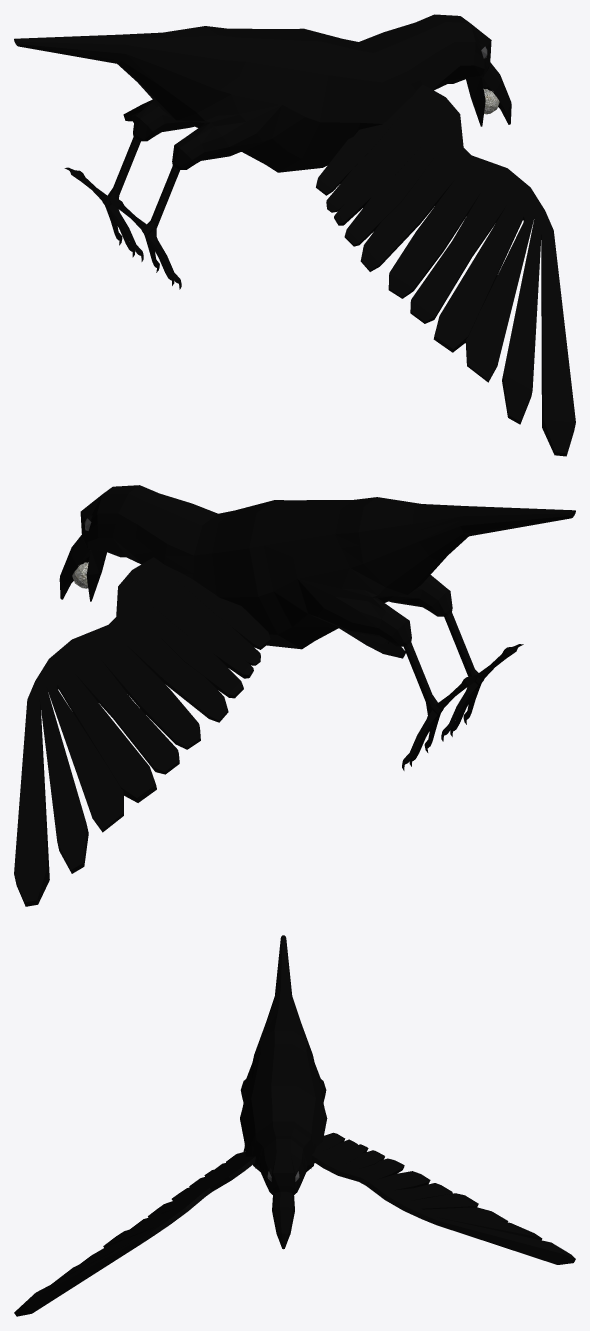
The model's file is crow_up_stone_000007.obj.
3 views of the same model, one above another, from view 1: azimuth 30°, elevation 25°; view 2: azimuth 150°, elevation 25°; view 3: azimuth 270°, elevation 25° (orthographic). The views are drawn at different scales.
Visible parts, largest first — view 1: Cylinder; view 2: Cylinder; view 3: Cylinder.
Part boxes in pixels (x1=…): Cylinder: x1=14, y1=14, x2=575, y2=456; Cylinder: x1=14, y1=485, x2=575, y2=906; Cylinder: x1=14, y1=935, x2=575, y2=1316.
Size of the model in its own units: 1.51 by 1.07 by 2.11.
